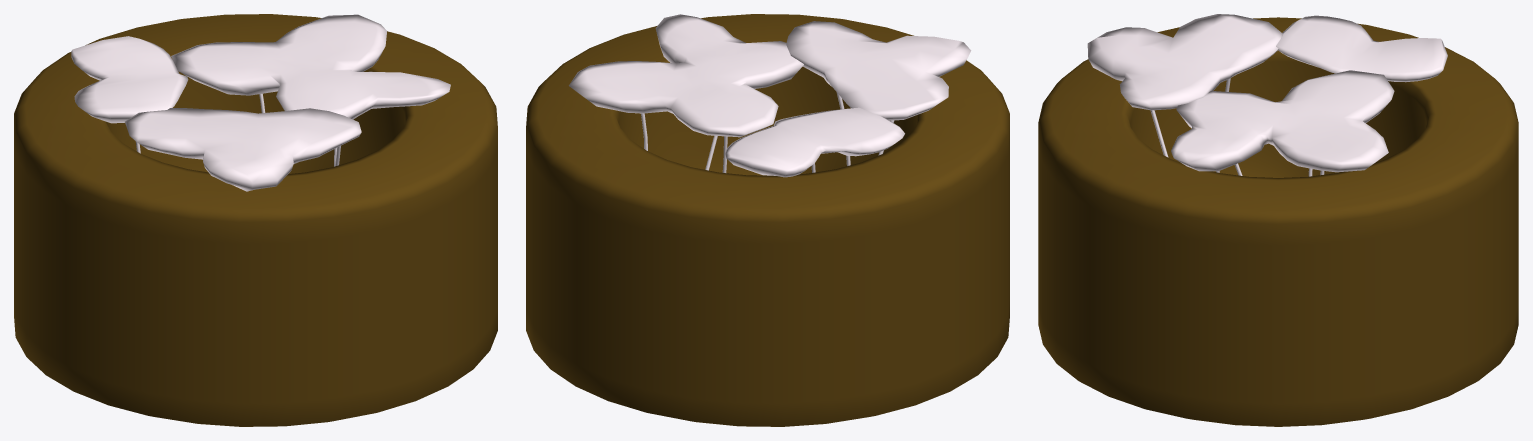
File: LemnaGibbaStatue.fbx
The picture shows the model from 3 angles, left to right: view 1: azimuth 30°, elevation 25°; view 2: azimuth 150°, elevation 25°; view 3: azimuth 270°, elevation 25°; orthographic projection.
Visible parts, largest first — view 1: Cylinder, Circle.050; view 2: Cylinder, Circle.050; view 3: Cylinder, Circle.050.
Part boxes in pixels (x1=…): Cylinder: x1=14, y1=14, x2=497, y2=426; Circle.050: x1=71, y1=14, x2=450, y2=191; Cylinder: x1=526, y1=14, x2=1009, y2=426; Circle.050: x1=569, y1=14, x2=971, y2=177; Cylinder: x1=1038, y1=17, x2=1518, y2=426; Circle.050: x1=1087, y1=14, x2=1447, y2=176.
Bounding box in the file's own units: 708 × 403 × 708.
